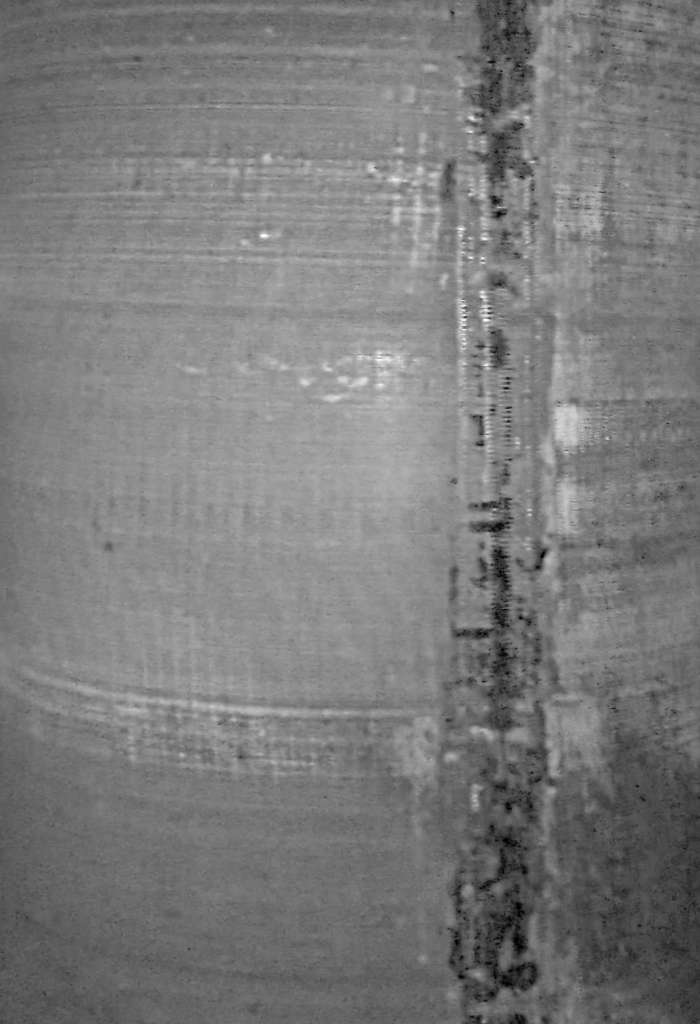splice: (433, 2, 572, 1024)
